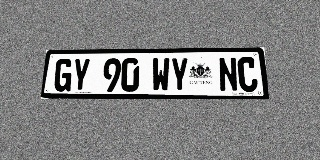0: (121, 58, 139, 92)
9: (102, 58, 121, 92)
C: (237, 57, 258, 92)
G: (53, 59, 73, 92)
N: (218, 57, 238, 92)
W: (151, 58, 170, 92)
Y: (71, 58, 91, 92), (170, 58, 189, 92)
